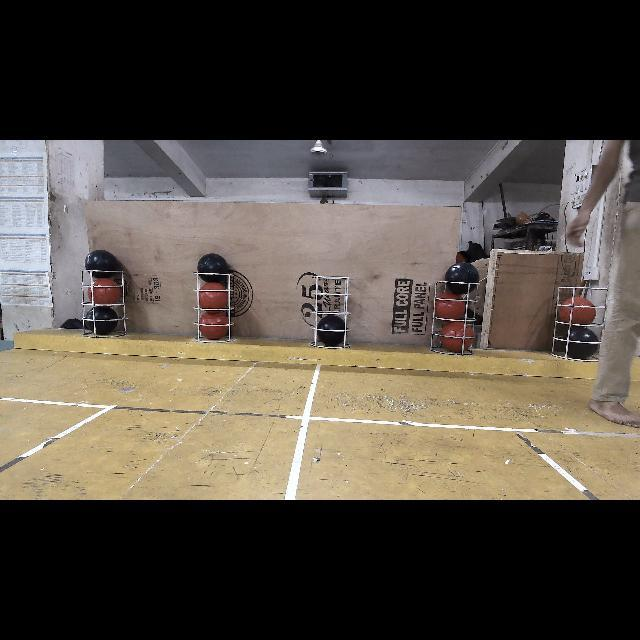P: (562, 326, 598, 360), (445, 262, 480, 295), (85, 250, 119, 279), (316, 316, 348, 346), (86, 308, 120, 334), (198, 254, 228, 283)
R: (442, 322, 472, 352), (434, 294, 466, 322), (560, 298, 592, 326), (198, 312, 230, 338), (88, 280, 120, 306), (198, 284, 228, 310)
S: (552, 282, 608, 363), (430, 280, 480, 358), (310, 274, 354, 352), (80, 268, 128, 339), (192, 270, 235, 346)
